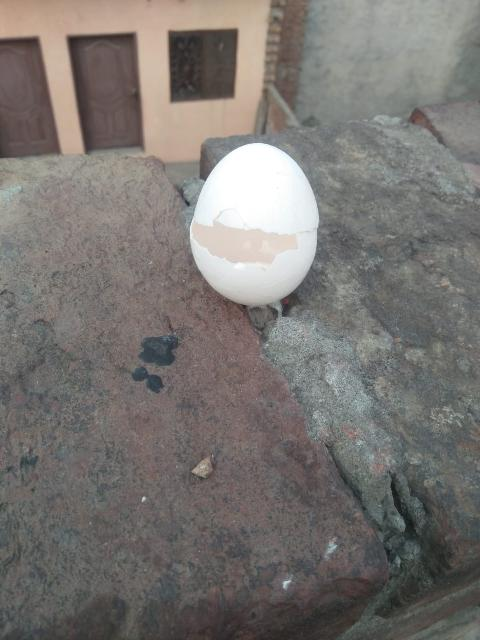Roto: (188, 141, 320, 307)
